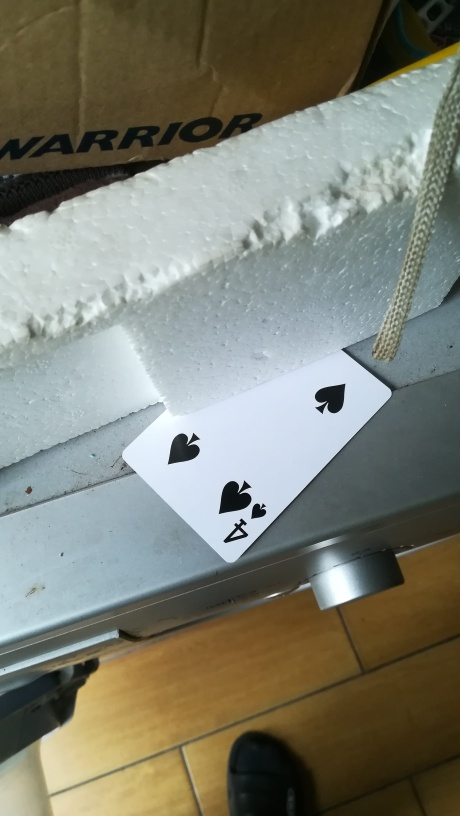ht 4: (118, 300, 393, 567)
